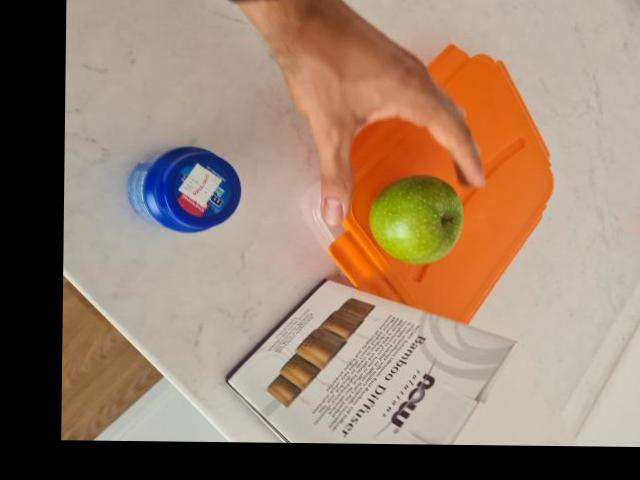apple: (366, 187, 467, 260)
